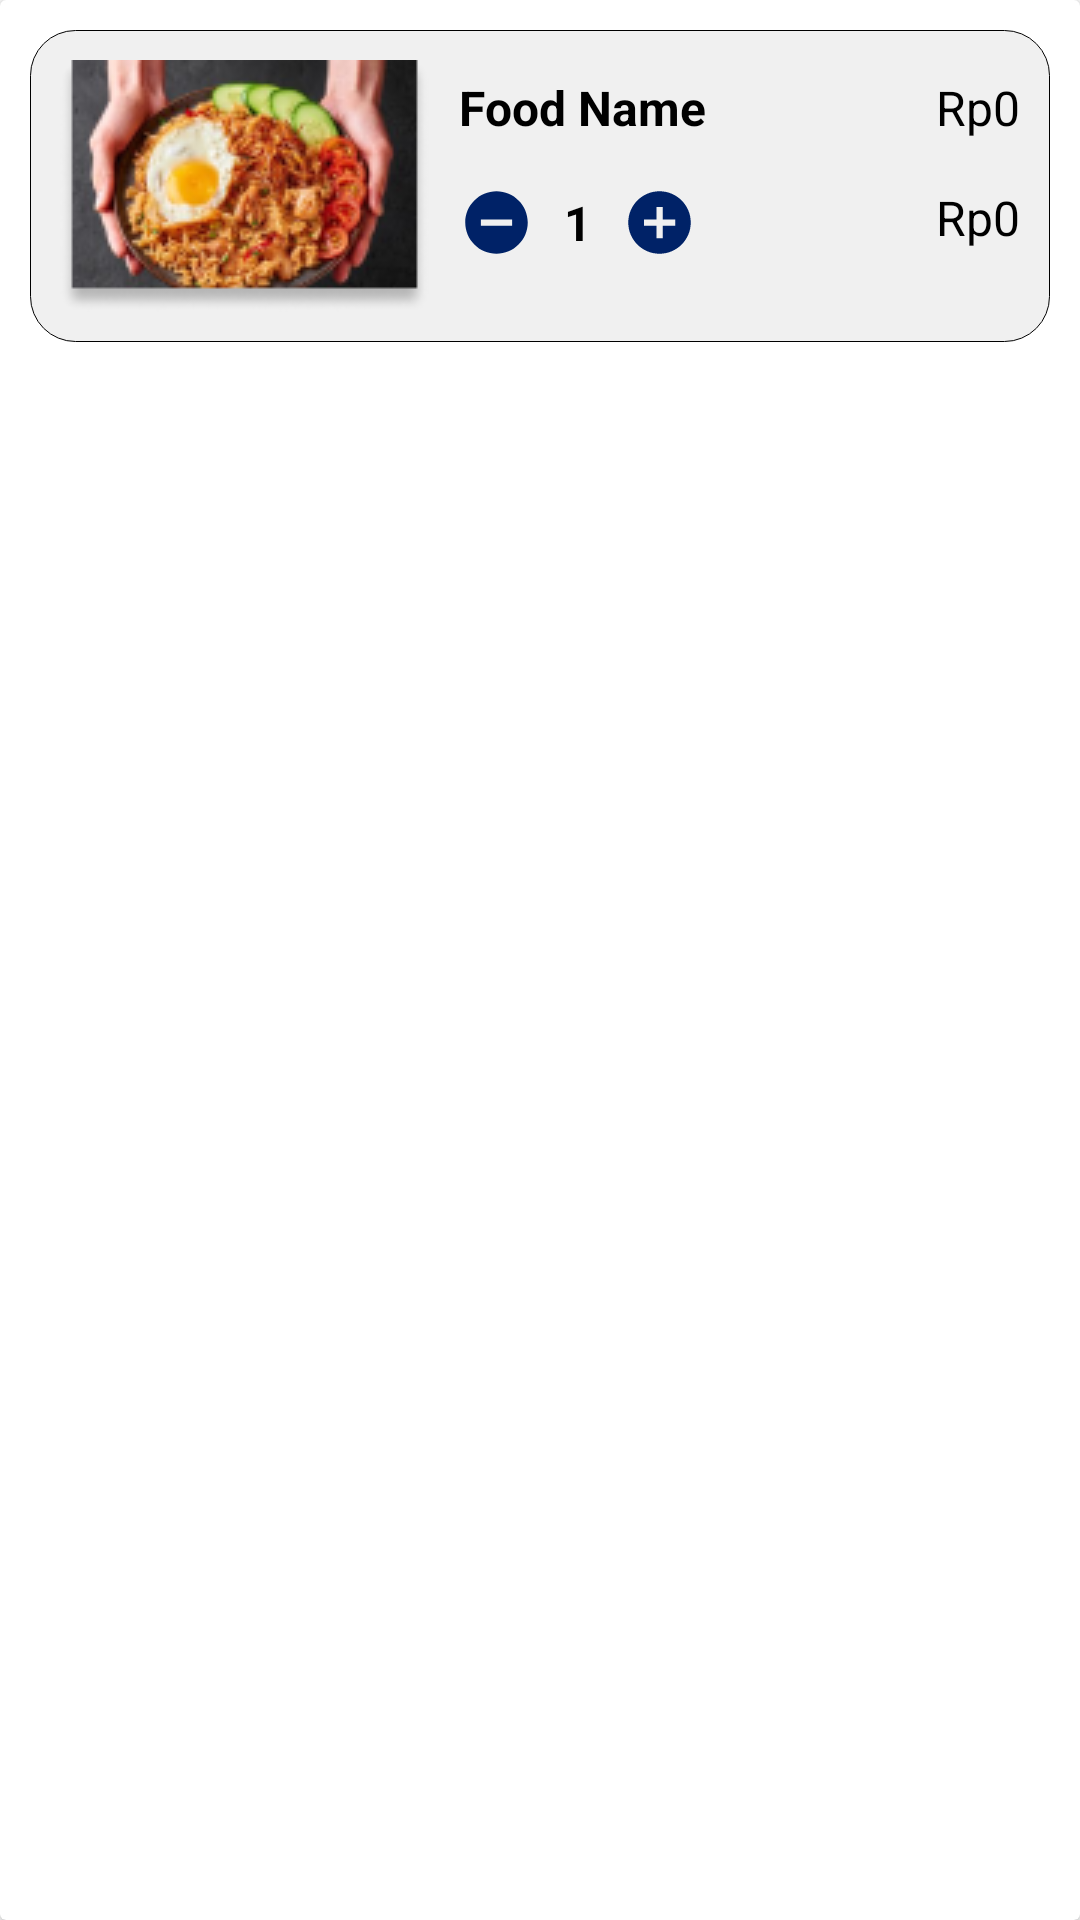

Icon click points for this 1080 x 1920 phone screenshot, format (x=x, y=y):
add circle: (x=659, y=222)
nasigorengayam: (x=244, y=180)
remove circle: (x=496, y=222)
